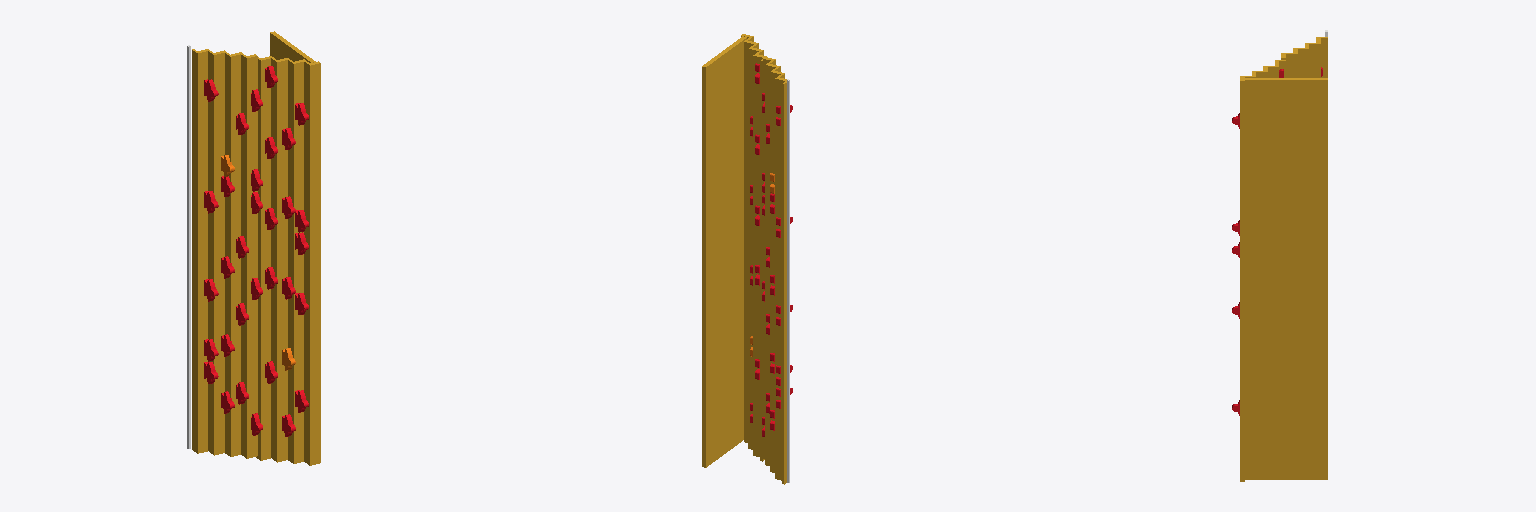
File: galeria.obj
3 renders of one model, left to right at view 1: azimuth 30°, elevation 25°; view 2: azimuth 150°, elevation 25°; view 3: azimuth 270°, elevation 25°, orthographic.
Parts seen in each view (by area): view 1: obj_0; view 2: obj_0; view 3: obj_0.
Part boxes in pixels (left/top/right/bottom): obj_0: left=187, top=31, right=320, bottom=465; obj_0: left=702, top=34, right=792, bottom=484; obj_0: left=1232, top=30, right=1327, bottom=481.
Size of the model in its own units: 40.02 by 174 by 37.